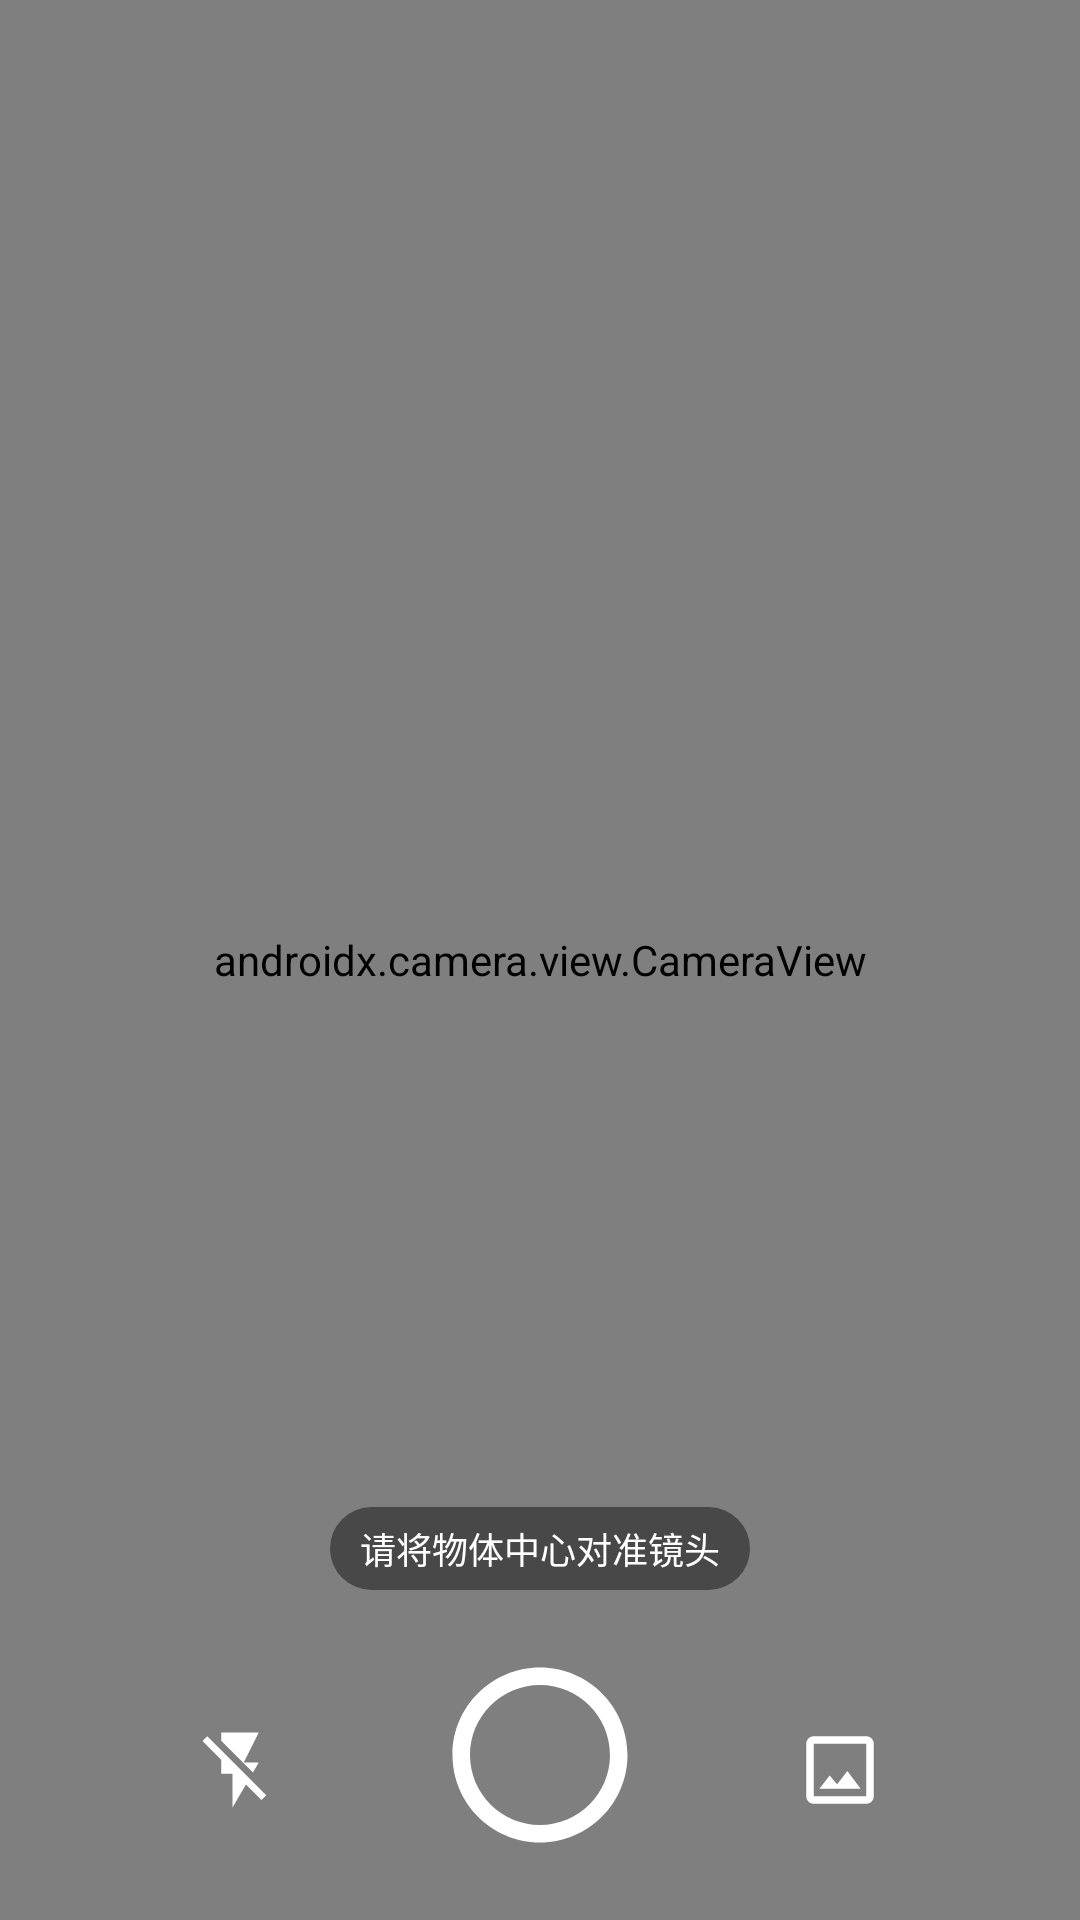

Icons on this 1080x1920 Android screen, each with the point to tap as [x,y]:
circle: [540,1755]
crop original: [840,1770]
flash off: [234,1769]
